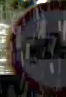Heavy Vehicles: (6, 0, 65, 94)
